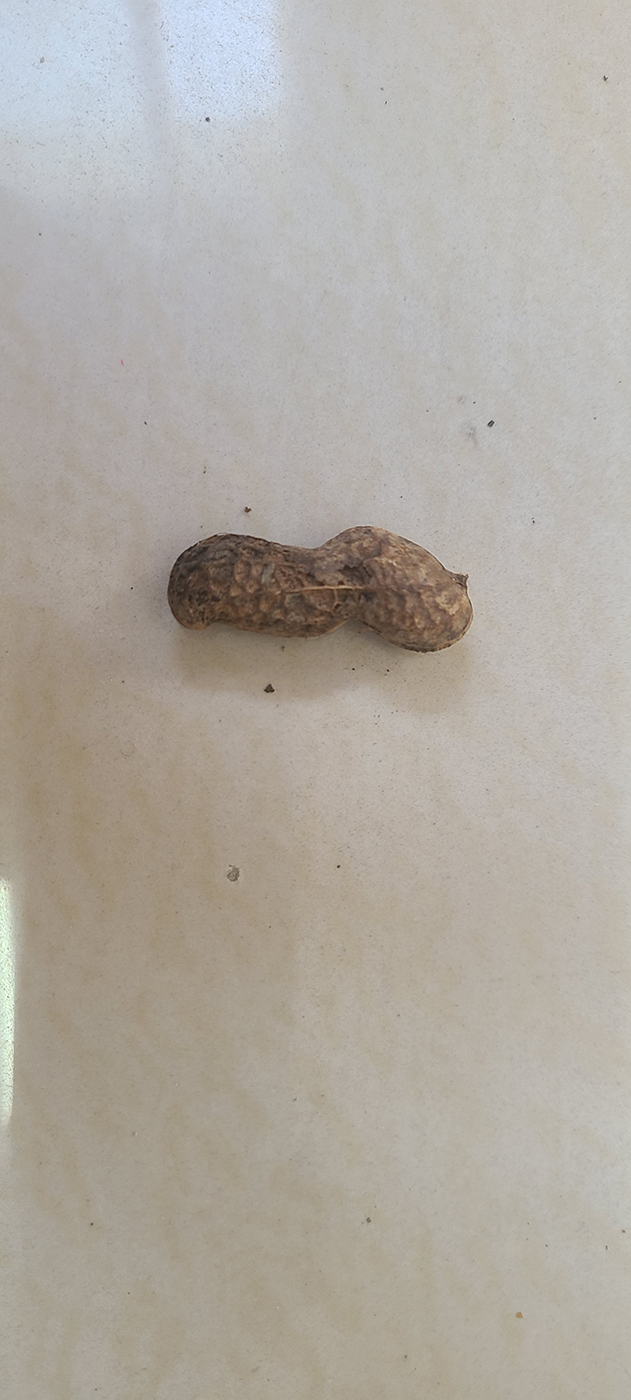l: (168, 525, 473, 653)
